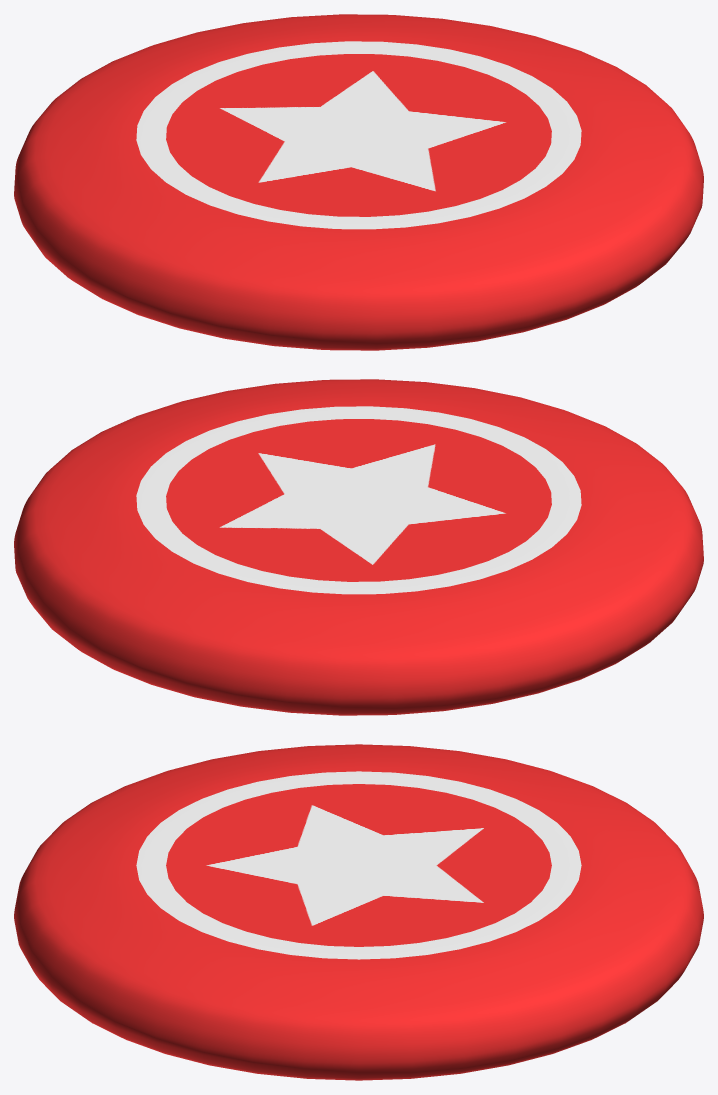
Rendered from FrisbeeDummyFBX.fbx.
The picture shows the model from 3 angles, top to bottom: view 1: azimuth 30°, elevation 25°; view 2: azimuth 150°, elevation 25°; view 3: azimuth 270°, elevation 25°; orthographic projection.
Parts seen in each view (by area): view 1: Mesh; view 2: Mesh; view 3: Mesh.
Part boxes in pixels (x1=…): Mesh: x1=14, y1=14, x2=703, y2=350; Mesh: x1=14, y1=379, x2=703, y2=715; Mesh: x1=14, y1=744, x2=703, y2=1080.
Bounding box in the file's own units: 2.29 × 0.2838 × 2.29.
Materials: 1 (1 with a texture image).
